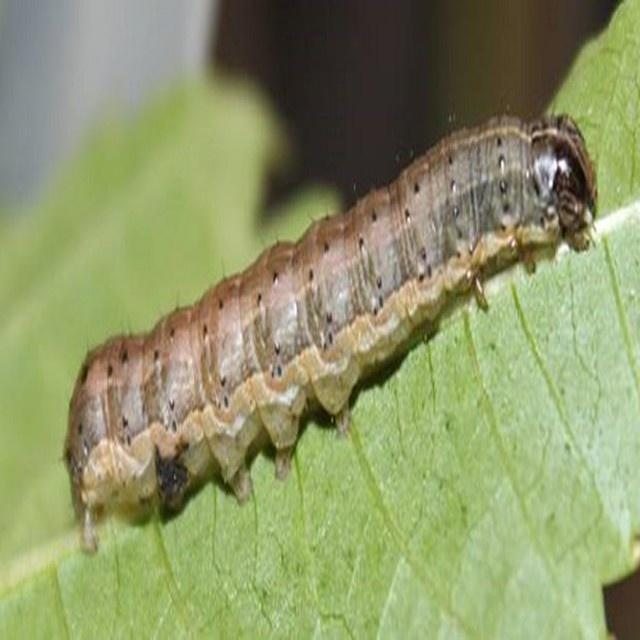worm: (62, 106, 601, 558)
